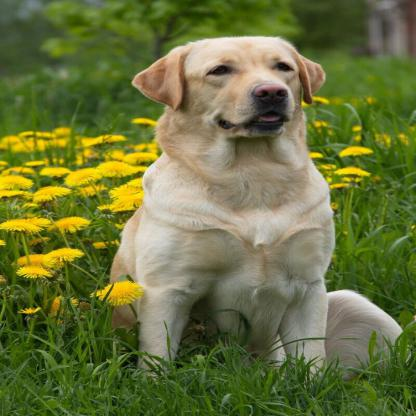Rotveler: (108, 32, 405, 379)
